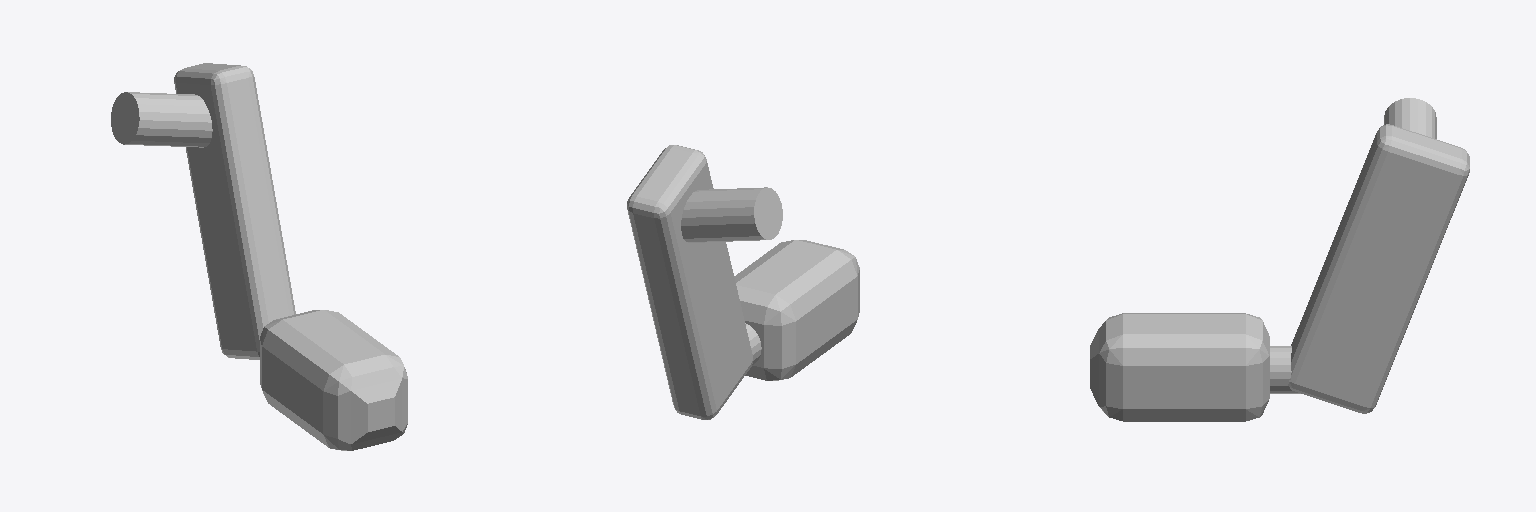
The model's file is Drone_leftarm.obj.
3 views of the same model, side by side, from view 1: azimuth 30°, elevation 25°; view 2: azimuth 150°, elevation 25°; view 3: azimuth 270°, elevation 25° (orthographic).
Visible parts, largest first — view 1: Left_Shoulder Left_Arm Core Left_Upper_Arm, Left_Shoulder Left_Arm Core Left_Upper_Arm Left_Elbow Left_Hand, Left_Shoulder Left_Arm Core; view 2: Left_Shoulder Left_Arm Core Left_Upper_Arm, Left_Shoulder Left_Arm Core Left_Upper_Arm Left_Elbow Left_Hand, Left_Shoulder Left_Arm Core; view 3: Left_Shoulder Left_Arm Core Left_Upper_Arm, Left_Shoulder Left_Arm Core Left_Upper_Arm Left_Elbow Left_Hand, Left_Shoulder Left_Arm Core, Left_Shoulder Left_Arm Core Left_Upper_Arm Left_Elbow.
Part boxes in pixels (x1,y1,x2,y2): Left_Shoulder Left_Arm Core Left_Upper_Arm: (174, 63, 295, 359); Left_Shoulder Left_Arm Core Left_Upper_Arm Left_Elbow Left_Hand: (260, 310, 407, 450); Left_Shoulder Left_Arm Core: (111, 92, 212, 147); Left_Shoulder Left_Arm Core Left_Upper_Arm: (627, 145, 752, 419); Left_Shoulder Left_Arm Core Left_Upper_Arm Left_Elbow Left_Hand: (734, 240, 859, 380); Left_Shoulder Left_Arm Core: (681, 187, 782, 242); Left_Shoulder Left_Arm Core Left_Upper_Arm: (1288, 124, 1469, 413); Left_Shoulder Left_Arm Core Left_Upper_Arm Left_Elbow Left_Hand: (1090, 313, 1269, 421); Left_Shoulder Left_Arm Core: (1384, 98, 1436, 138); Left_Shoulder Left_Arm Core Left_Upper_Arm Left_Elbow: (1270, 346, 1300, 393).
Bounding box in the file's own units: 1.73 × 3.24 × 3.98.